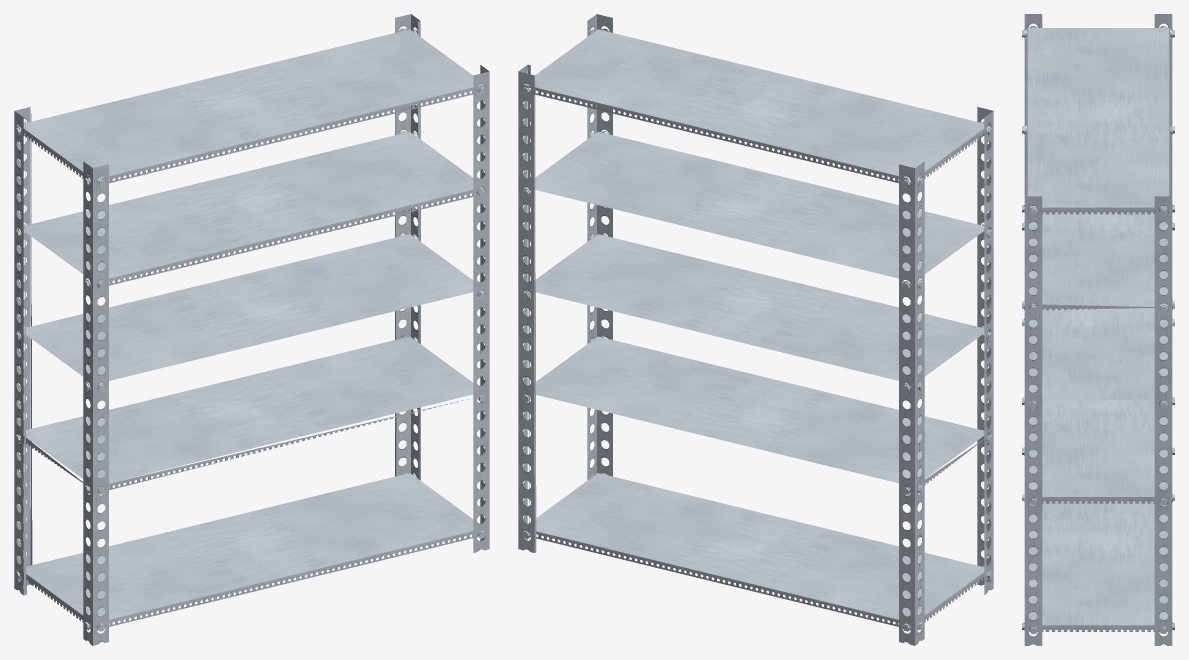
File: kt_steel_shelving.fbx
The picture shows the model from 3 angles, left to right: view 1: azimuth 30°, elevation 25°; view 2: azimuth 150°, elevation 25°; view 3: azimuth 270°, elevation 25°; orthographic projection. The views are drawn at different scales.
Parts seen in each view (by area): view 1: kt_steel_shelving_LOD0; view 2: kt_steel_shelving_LOD0; view 3: kt_steel_shelving_LOD0.
Boxes of the visible parts, x1,y1,x2,y2 form: kt_steel_shelving_LOD0: (14,14,489,645); kt_steel_shelving_LOD0: (518,14,993,645); kt_steel_shelving_LOD0: (1022,14,1174,645).
Size of what is drawn, in the model's own units: 1.63 by 1.85 by 0.5699.
2 materials, 2 textured.
